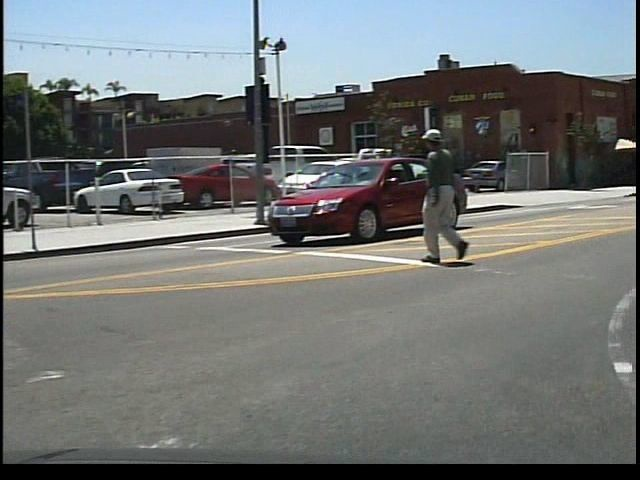person: (422, 117, 488, 272)
